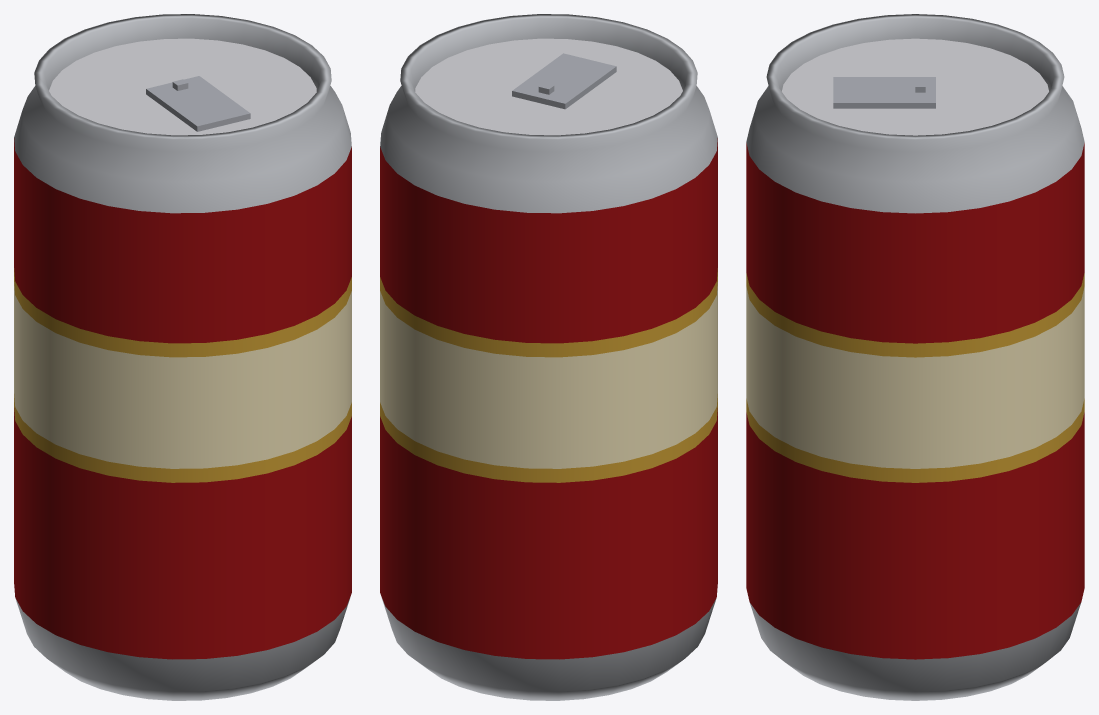
The model's file is beer_can.obj.
3 views of the same model, side by side, from view 1: azimuth 30°, elevation 25°; view 2: azimuth 150°, elevation 25°; view 3: azimuth 270°, elevation 25° (orthographic).
Parts seen in each view (by area): view 1: part1, part5, part3, part6, part7, part0, part2, part4, part8; view 2: part1, part5, part3, part6, part7, part0, part2, part4, part8; view 3: part1, part5, part3, part6, part7, part0, part4, part2, part8.
Part boxes in pixels (bbox=[...]): part1: bbox=[14, 408, 351, 659]; part5: bbox=[14, 138, 351, 343]; part3: bbox=[14, 282, 351, 468]; part6: bbox=[14, 14, 351, 213]; part7: bbox=[49, 38, 316, 135]; part0: bbox=[15, 596, 350, 700]; part2: bbox=[14, 394, 351, 482]; part4: bbox=[14, 268, 351, 357]; part8: bbox=[146, 76, 250, 131]; part1: bbox=[380, 408, 717, 659]; part5: bbox=[380, 138, 717, 343]; part3: bbox=[380, 282, 717, 468]; part6: bbox=[380, 14, 717, 213]; part7: bbox=[415, 38, 682, 135]; part0: bbox=[381, 596, 716, 700]; part2: bbox=[380, 394, 717, 482]; part4: bbox=[380, 268, 717, 357]; part8: bbox=[512, 53, 616, 109]; part1: bbox=[746, 412, 1084, 659]; part5: bbox=[746, 143, 1084, 343]; part3: bbox=[746, 287, 1084, 468]; part6: bbox=[746, 14, 1084, 213]; part7: bbox=[782, 38, 1048, 135]; part0: bbox=[749, 602, 1081, 700]; part4: bbox=[746, 273, 1084, 357]; part2: bbox=[746, 398, 1084, 482]; part8: bbox=[833, 77, 935, 108].
Size of the model in its own units: 0.0825 by 0.1525 by 0.0825.
